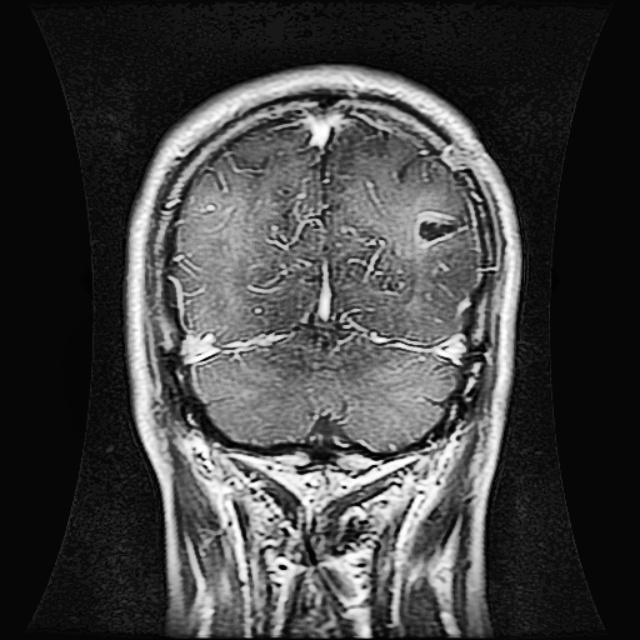Meningioma: (410, 209, 467, 248)
